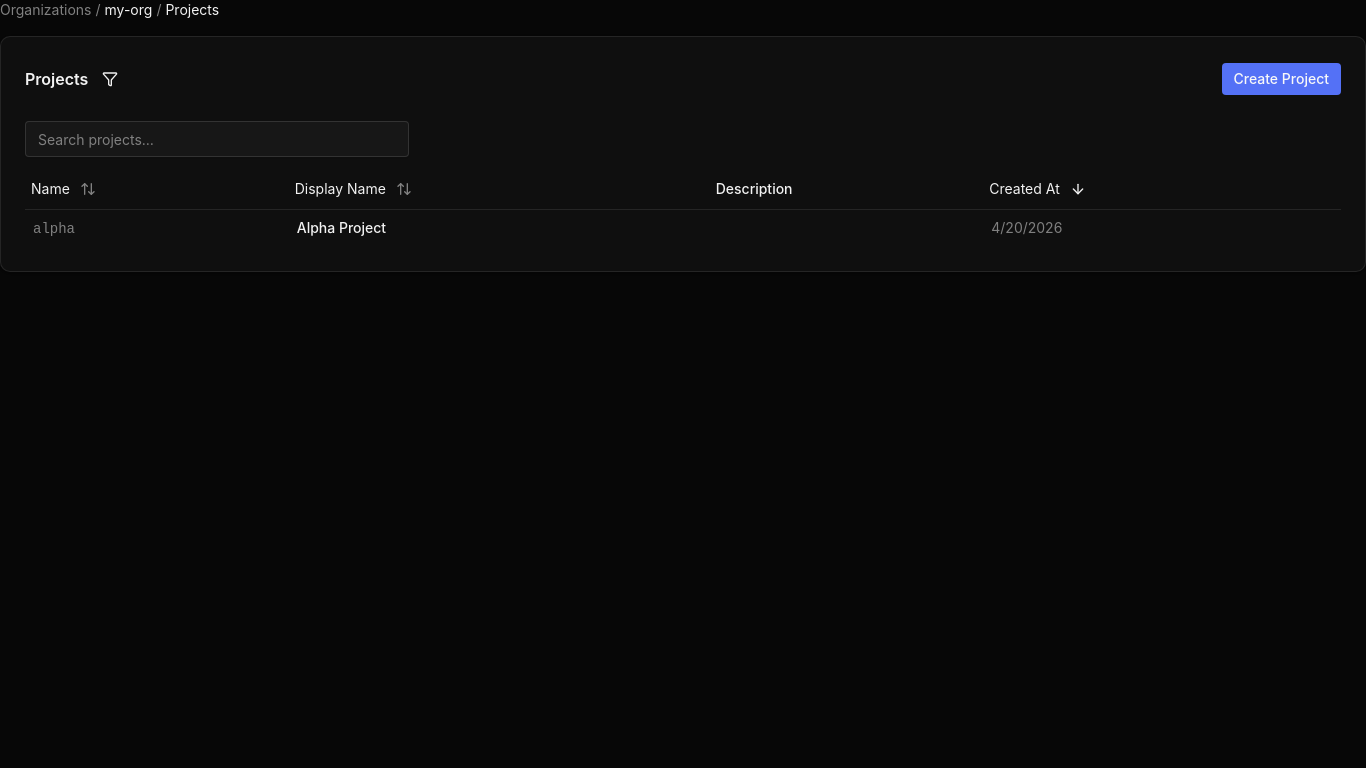
it: OrgProjectsIndexPage › renders the search-fields filter with a Creator option
Click the button named "Search fields": [110, 79] box x1=92 y1=61 x2=128 y2=97
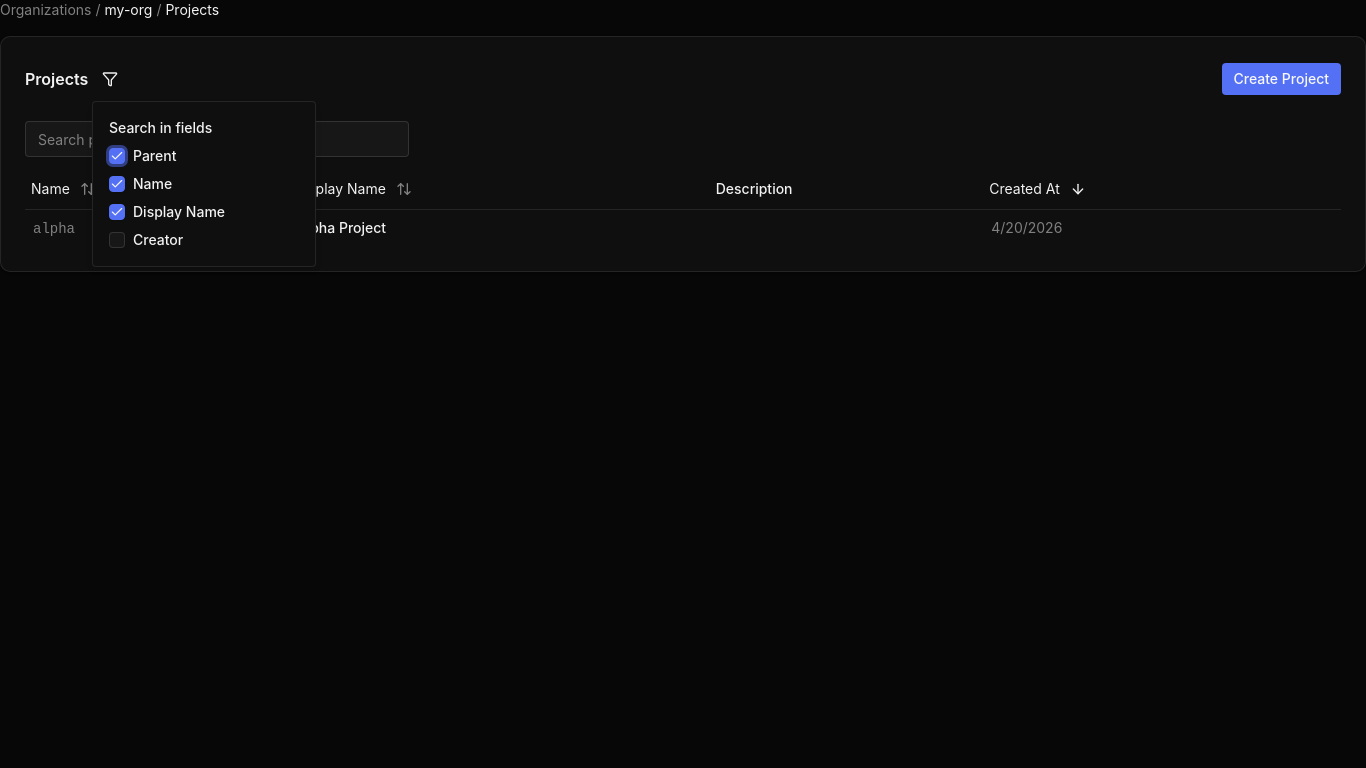
Now the checkbox named "Search Parent" is shown, box x1=109 y1=148 x2=125 y2=164
Now the checkbox named "Search Name" is shown, box x1=109 y1=176 x2=125 y2=192
Now the checkbox named "Search Display Name" is shown, box x1=109 y1=204 x2=125 y2=220
